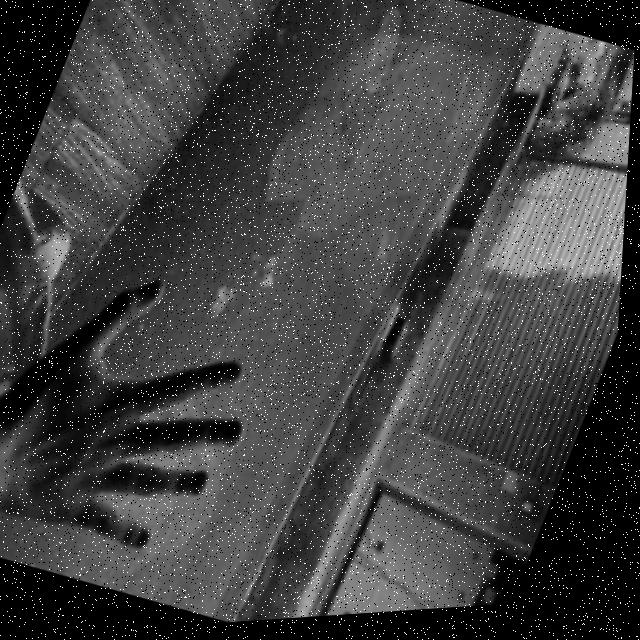hand: (0, 247, 301, 581)
